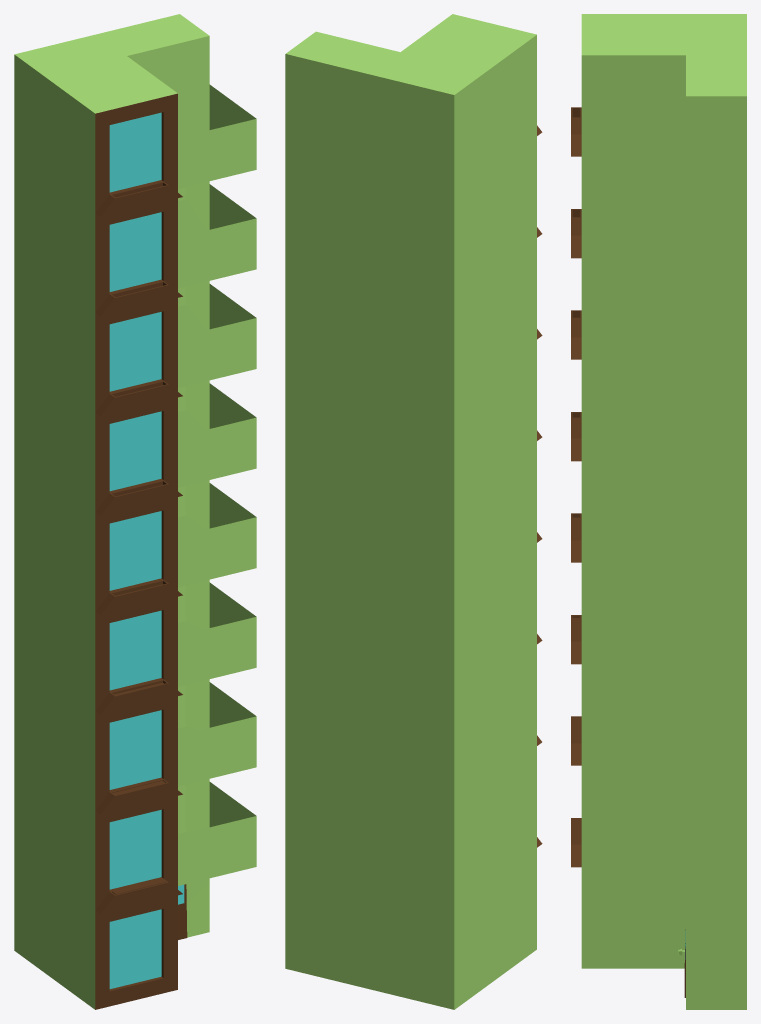
The model's file is Tower Green.fbx.
3 renders of one model, left to right at view 1: azimuth 30°, elevation 25°; view 2: azimuth 150°, elevation 25°; view 3: azimuth 270°, elevation 25°, orthographic. The views are drawn at different scales.
Visible parts, largest first — view 1: Cube.003; view 2: Cube.003; view 3: Cube.003.
Part boxes in pixels (<box>): Cube.003: <box>14,14,256,1009</box>; Cube.003: <box>285,14,542,1009</box>; Cube.003: <box>571,14,746,1009</box>.
Size of the model in its own units: 2037 by 10537 by 1839.
